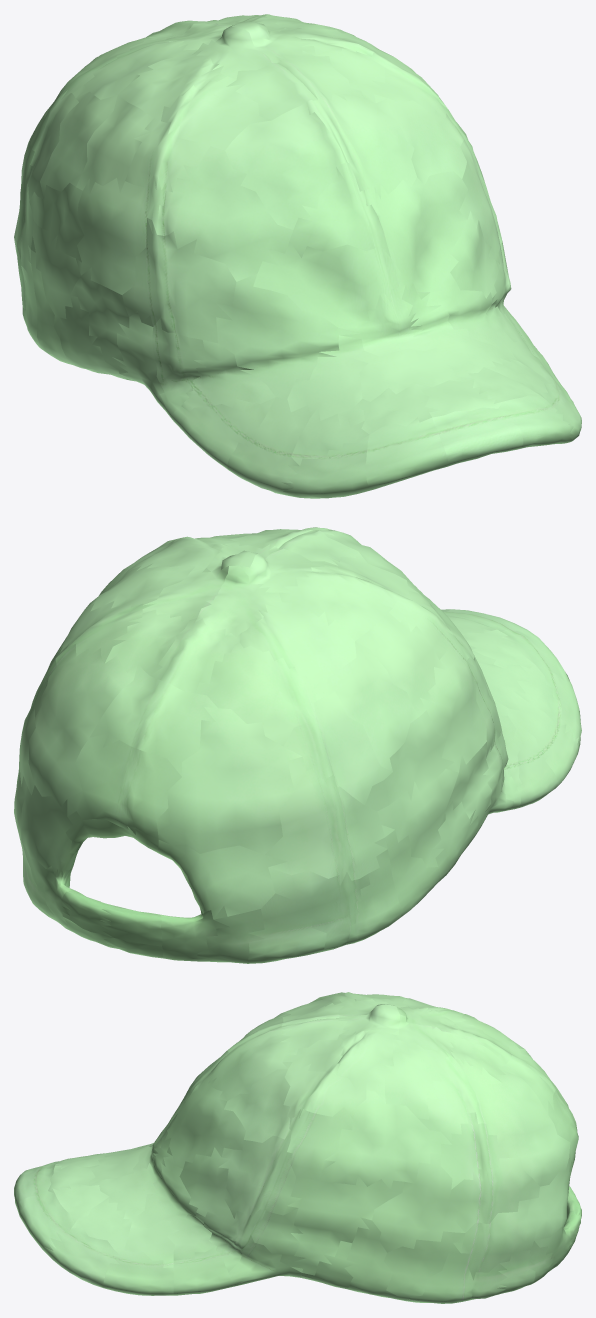
File: cap_green.glb
The picture shows the model from 3 angles, top to bottom: view 1: azimuth 30°, elevation 25°; view 2: azimuth 150°, elevation 25°; view 3: azimuth 270°, elevation 25°; orthographic projection. The views are drawn at different scales.
Size of the model in its own units: 1.12 by 0.8806 by 1.91.
1 material, 1 textured.
